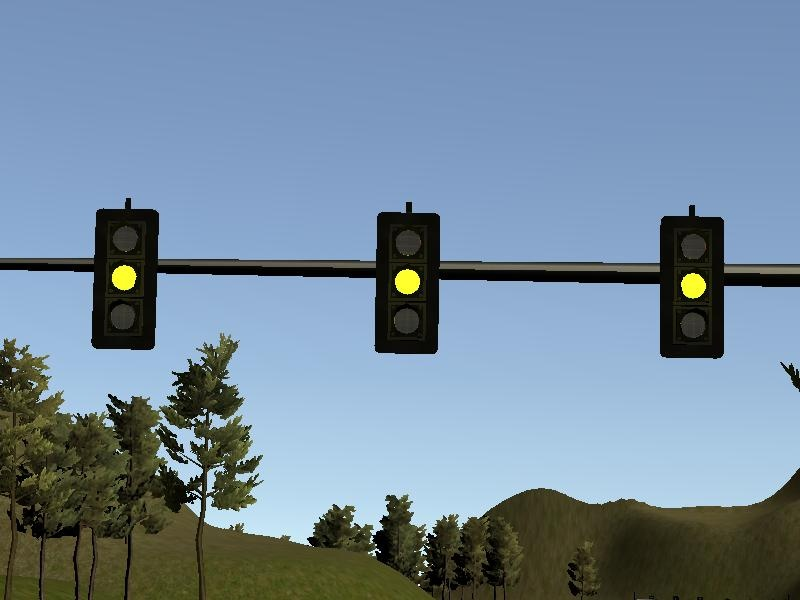YELLOW: (87, 205, 157, 351), (373, 209, 443, 355), (656, 214, 726, 360)
